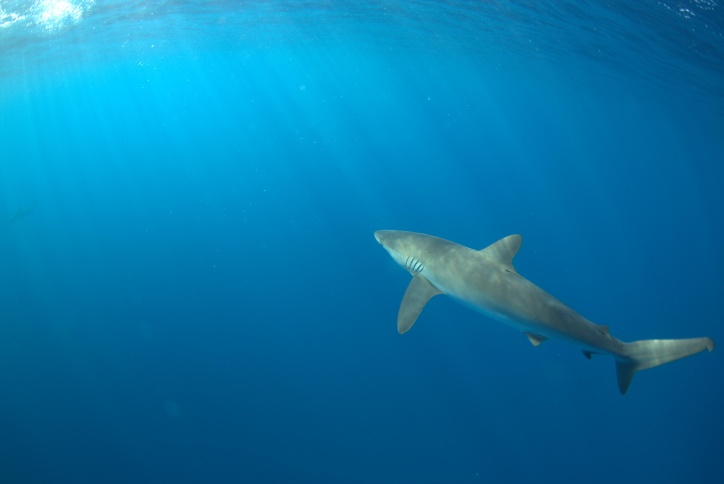Sedoso: (291, 196, 714, 399)
